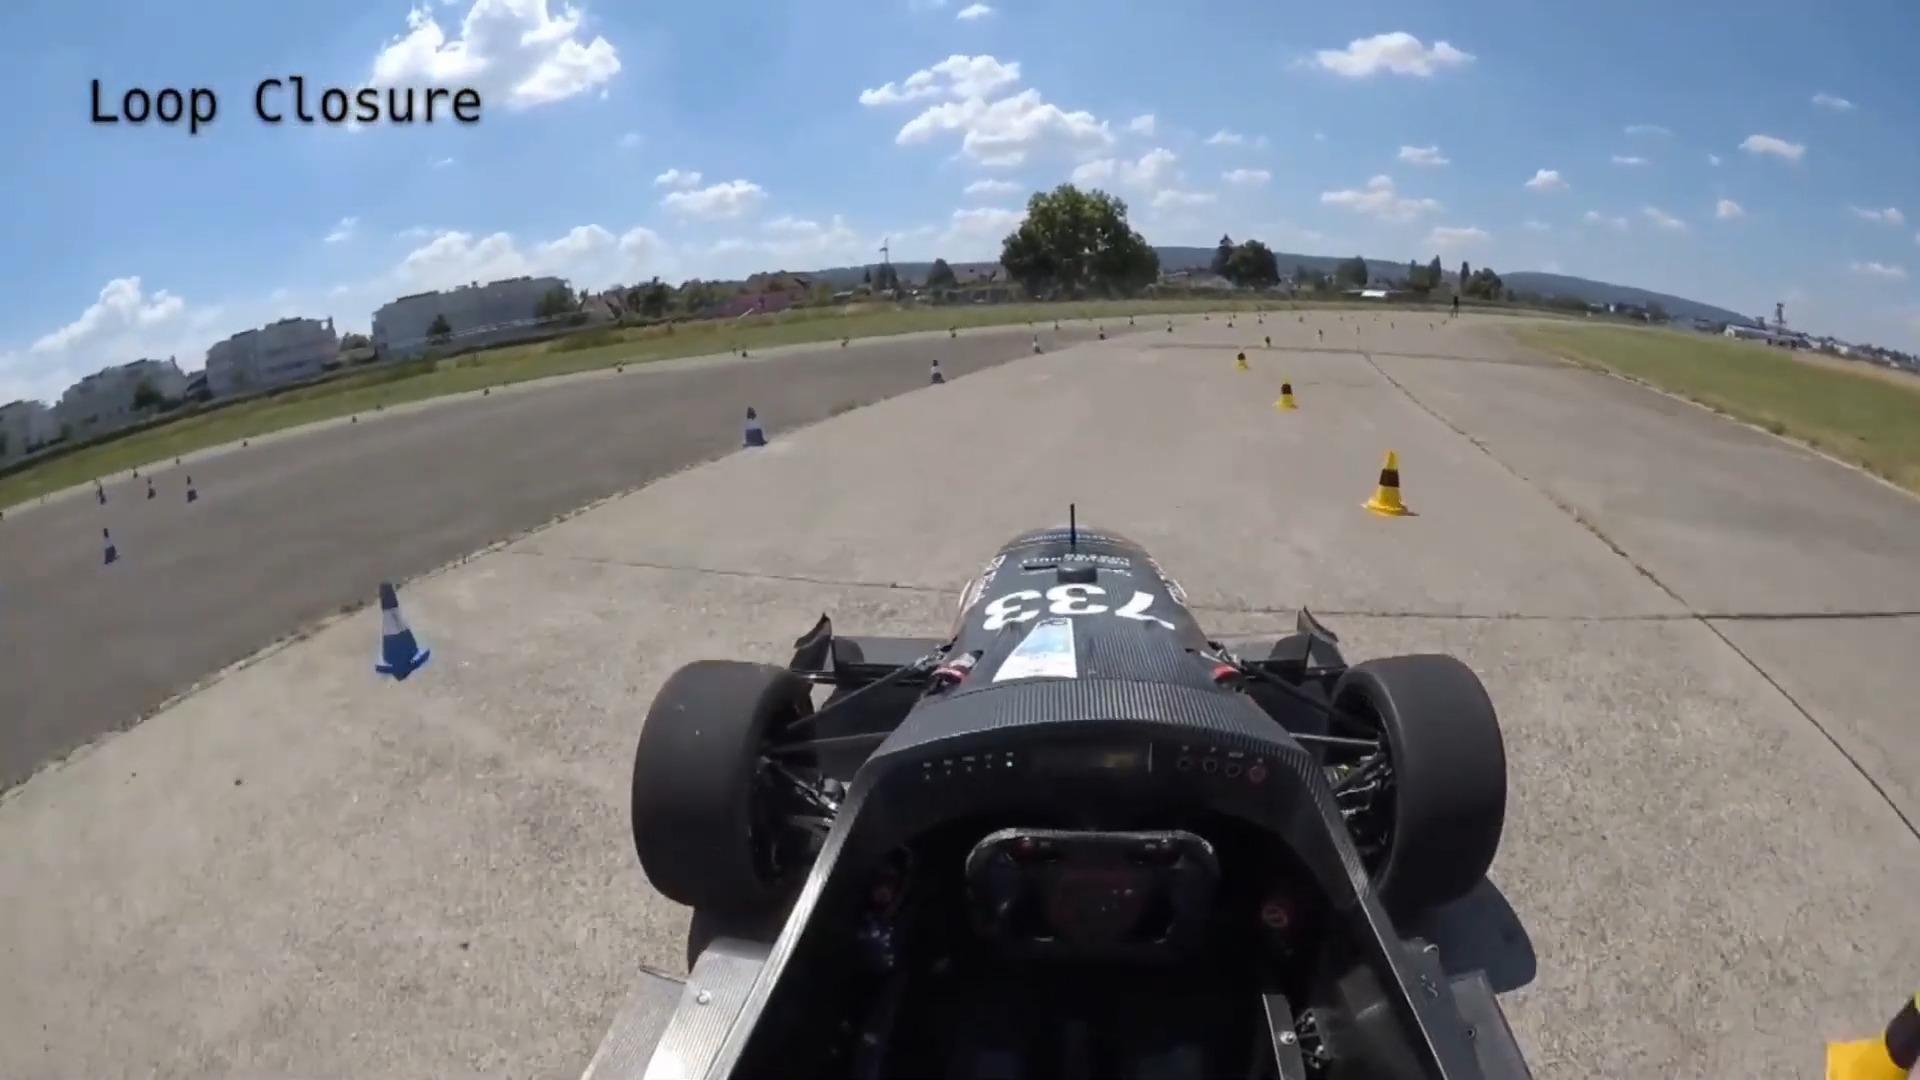blue_cone: (343, 570, 436, 675), (725, 393, 783, 452), (906, 347, 959, 393), (1023, 330, 1059, 376)
yellow_cone: (1353, 435, 1418, 516), (1267, 372, 1307, 407), (1228, 338, 1258, 380)
